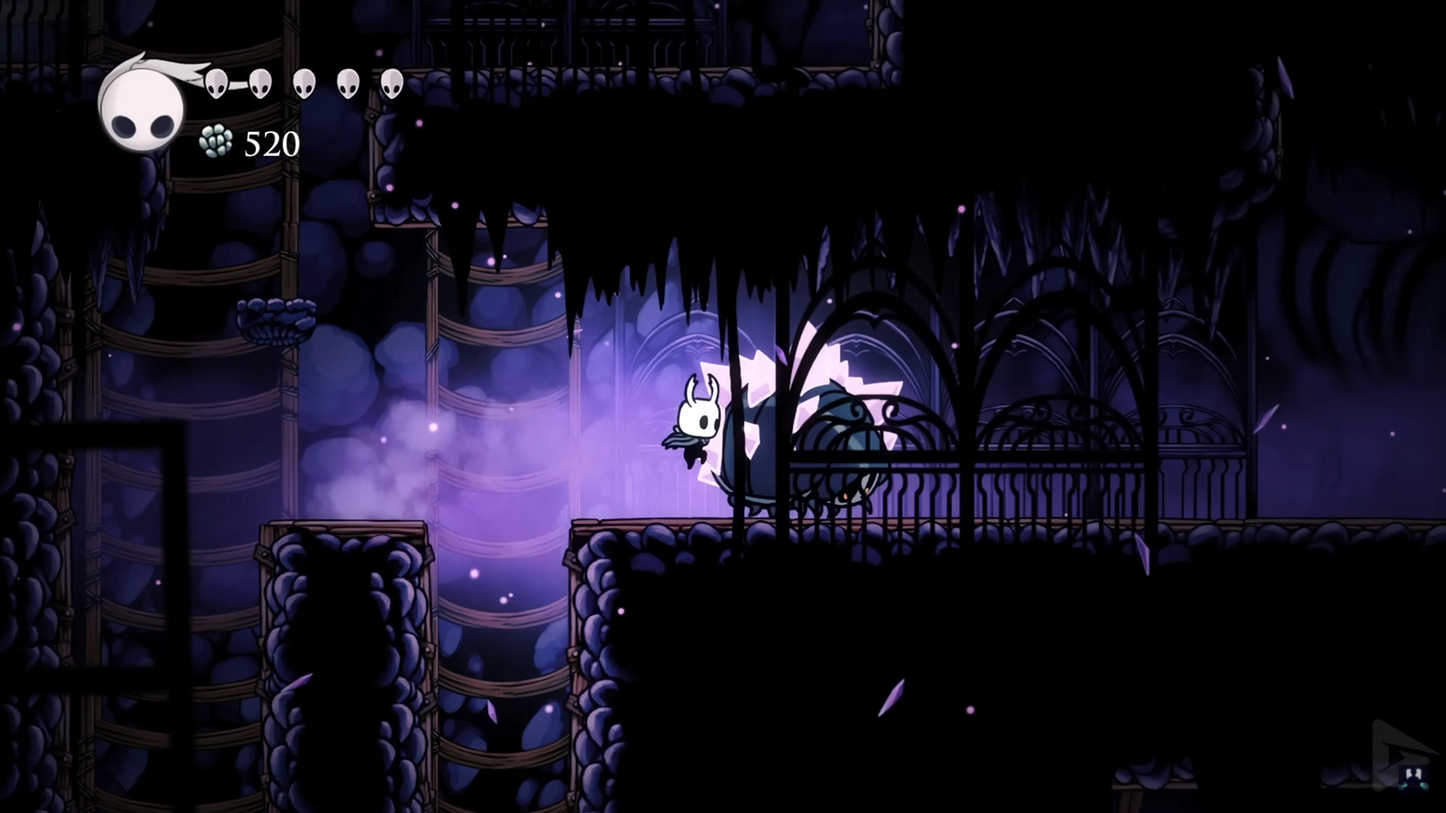HK: (665, 370, 731, 475)
